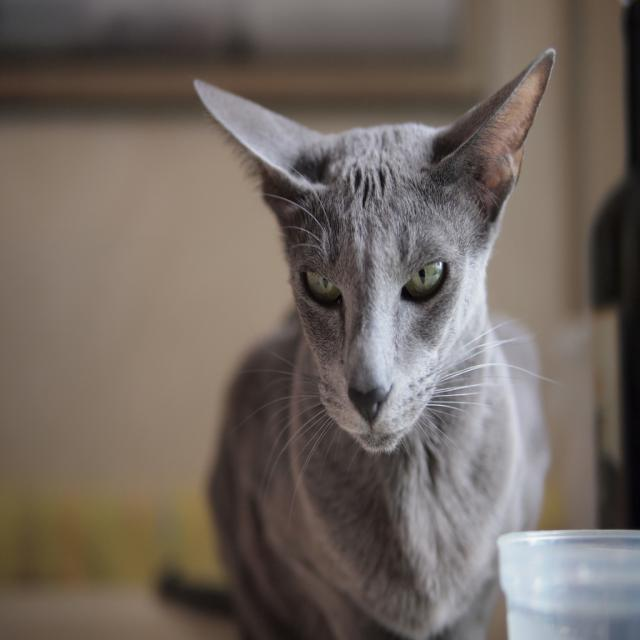Cat: (152, 47, 562, 639)
